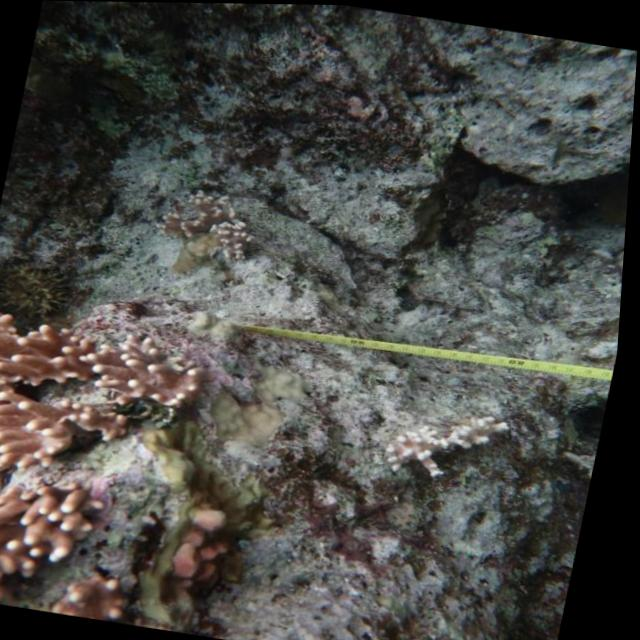Bleached Coral: (201, 342, 317, 474)
Healthy Coral: (0, 300, 210, 493), (0, 463, 133, 619), (384, 389, 516, 492), (145, 182, 268, 265), (161, 509, 259, 590)
